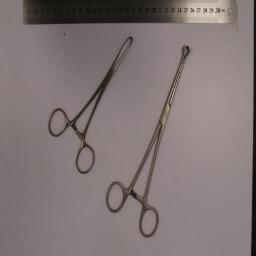Allis Tissue Forceps: (47, 36, 133, 176)
